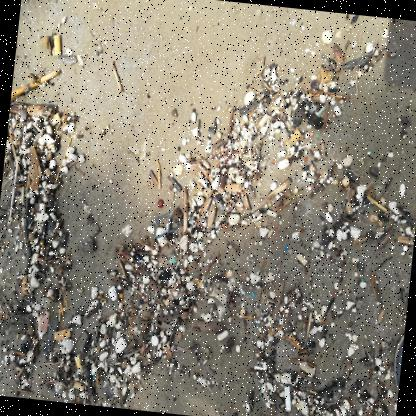Cigarette: (8, 161, 18, 217), (74, 353, 84, 374), (54, 329, 70, 341), (53, 34, 60, 55), (38, 203, 45, 222), (73, 381, 84, 390)
Other plastic bottle: (37, 311, 49, 333), (284, 386, 291, 412), (168, 254, 177, 266), (316, 105, 324, 115), (92, 374, 96, 380), (308, 132, 313, 136), (252, 291, 254, 297), (137, 256, 140, 260), (285, 246, 288, 250), (183, 292, 185, 297)
Unlabeled litter: (153, 212, 179, 238)
